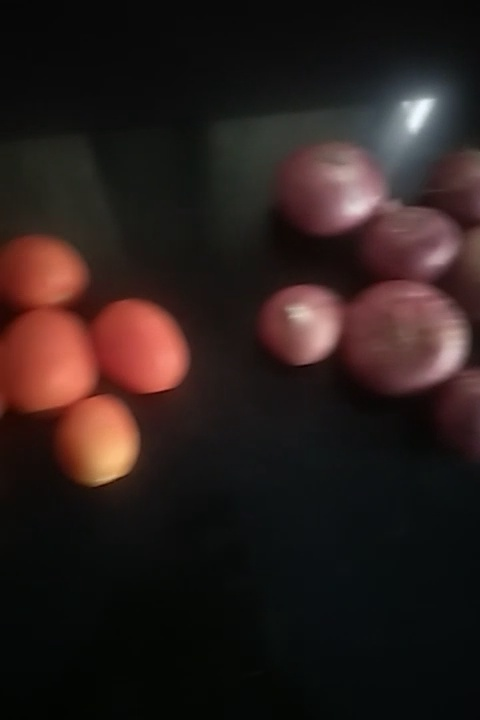onion: (347, 275, 470, 393), (282, 142, 384, 228), (262, 280, 345, 370), (375, 198, 453, 280), (435, 363, 480, 450), (434, 143, 480, 222)
tomato: (93, 296, 196, 406), (1, 307, 101, 419), (49, 396, 144, 488), (4, 229, 98, 315)
